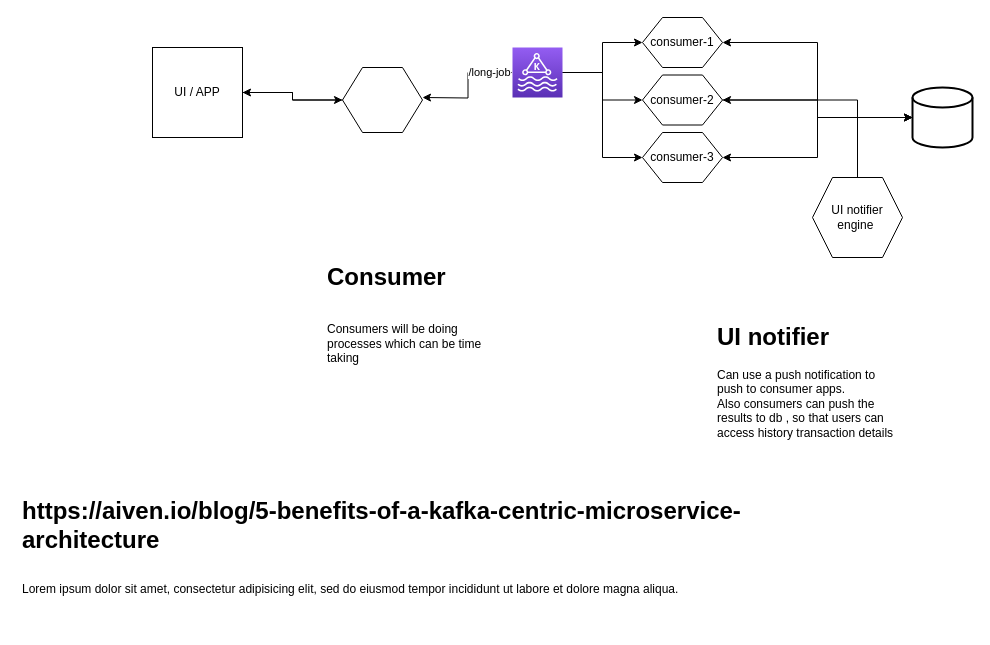
Image size: 990x645. Some labels were removed from this diagram. Here are the shapes that lost their labels. From the top down, the centre of each, then its label:
At [382,99]: "producer".
At [942,117]: "DB Store".
